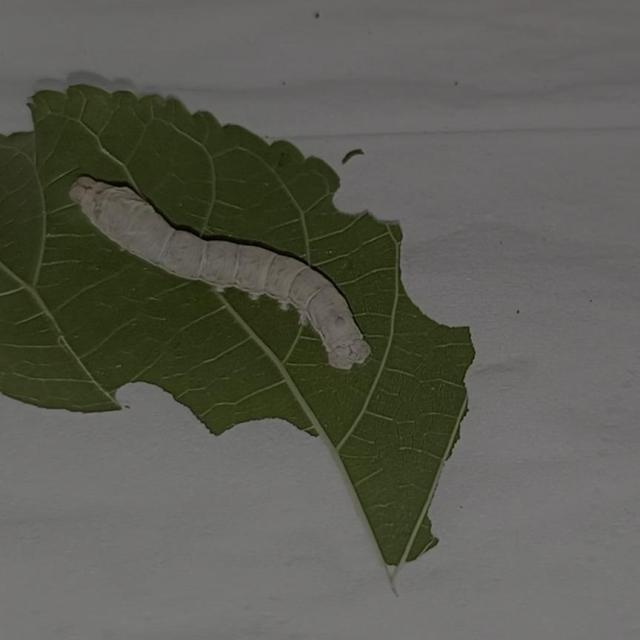Healthy: (45, 146, 440, 414)
